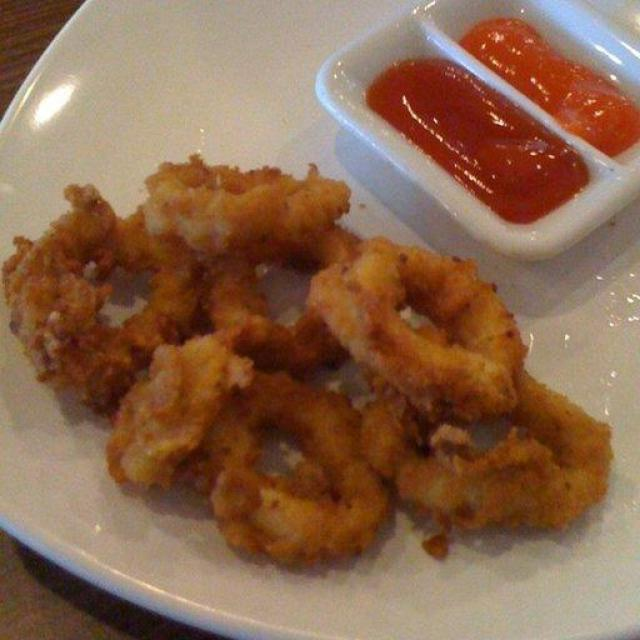food_waste: (2, 73, 640, 572)
